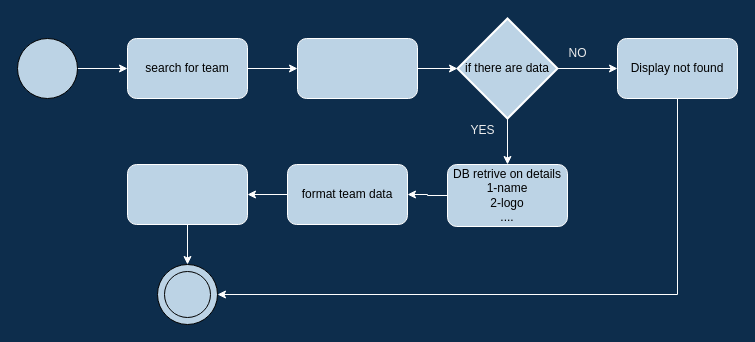
This 755x342 diagram has some shape labels left out. The centre of each missing label's shape, as x and y in pixels:
Display team data: (187,194)
system send request to DB: (357,68)
